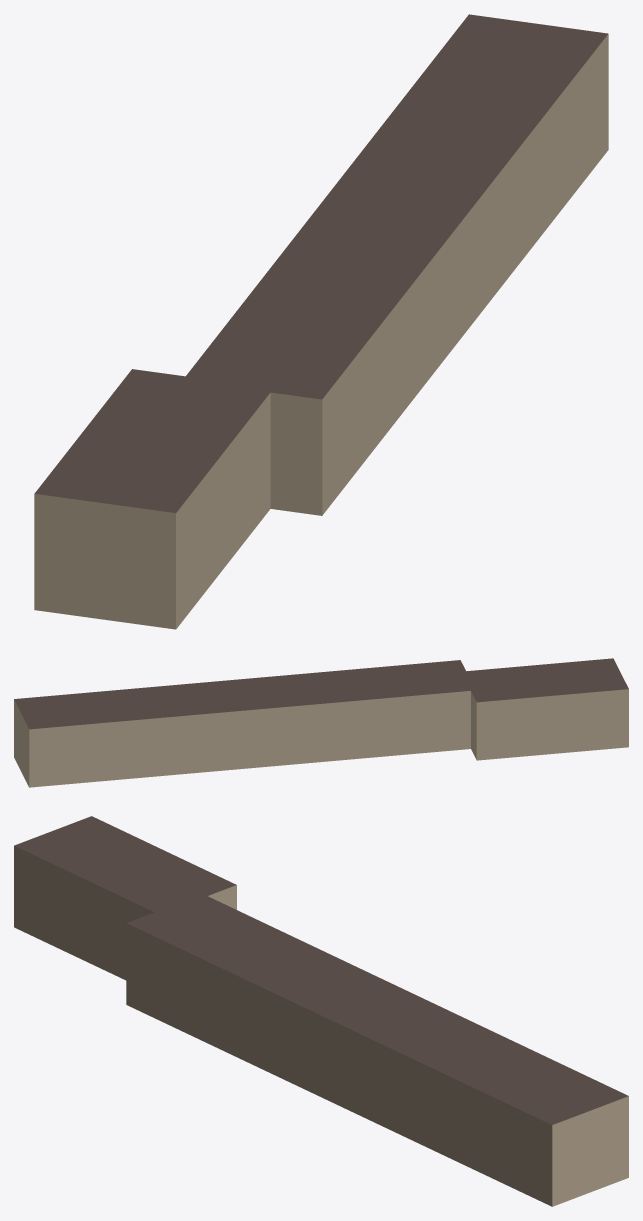
3 renders of one model, top to bottom at view 1: azimuth 30°, elevation 25°; view 2: azimuth 150°, elevation 25°; view 3: azimuth 270°, elevation 25°, orthographic. The views are drawn at different scales.
Visible parts, largest first — view 1: HP-w202954922; view 2: HP-w202954922; view 3: HP-w202954922.
Boxes of the visible parts, box(x1,y1,x2,y2) form: HP-w202954922: box(34, 14, 608, 629); HP-w202954922: box(14, 658, 628, 787); HP-w202954922: box(14, 816, 628, 1206).
Bounding box in the file's own units: 72.99 × 9 × 61.37.
